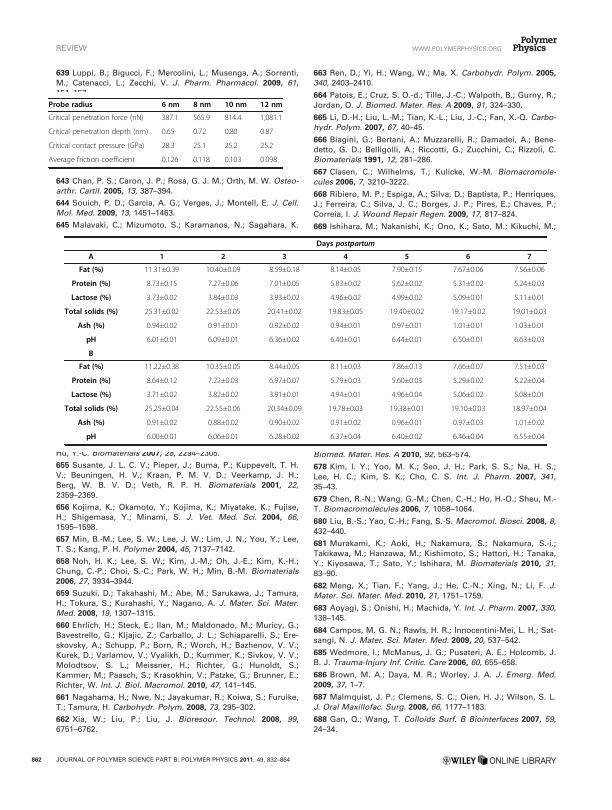borderless: (64, 235, 546, 444), (47, 97, 282, 167)
cell: (48, 128, 149, 137), (48, 142, 145, 151), (48, 114, 144, 123), (48, 156, 136, 165), (64, 307, 119, 317), (64, 404, 119, 414), (316, 239, 376, 248), (70, 293, 112, 303), (70, 390, 112, 400), (71, 279, 111, 289), (71, 376, 111, 386), (48, 101, 94, 109), (77, 321, 105, 331), (77, 418, 105, 428), (78, 265, 104, 275), (78, 362, 104, 372), (144, 266, 180, 273), (205, 266, 241, 273), (144, 308, 180, 315), (205, 308, 241, 315), (266, 308, 302, 315), (328, 308, 364, 315), (389, 308, 425, 315), (450, 308, 486, 315), (511, 308, 547, 315), (144, 363, 180, 370), (205, 363, 241, 370), (144, 405, 180, 412), (205, 405, 241, 412), (266, 405, 302, 412), (328, 405, 364, 412), (389, 405, 425, 412), (450, 405, 486, 412), (511, 405, 547, 412), (268, 266, 301, 273), (329, 266, 362, 273), (513, 266, 546, 273), (268, 280, 301, 287), (329, 280, 362, 287), (513, 280, 546, 287), (268, 294, 301, 301), (329, 294, 362, 301), (513, 294, 546, 301), (268, 322, 301, 329), (329, 322, 362, 329), (513, 322, 546, 329), (268, 336, 301, 343), (329, 336, 362, 343), (513, 336, 546, 343), (268, 363, 301, 370), (329, 363, 362, 370), (513, 363, 546, 370), (268, 377, 301, 384), (329, 377, 362, 384), (513, 377, 546, 384), (268, 391, 301, 398), (329, 391, 362, 398), (513, 391, 546, 398), (268, 419, 301, 426), (329, 419, 362, 426), (513, 419, 546, 426), (268, 433, 301, 440), (329, 433, 362, 440), (513, 433, 546, 440), (391, 266, 423, 273), (452, 266, 484, 273), (146, 280, 178, 287), (207, 280, 239, 287), (391, 280, 423, 287), (452, 280, 484, 287), (146, 294, 178, 301), (207, 294, 239, 301), (391, 294, 423, 301), (452, 294, 484, 301), (146, 322, 178, 329), (207, 322, 239, 329), (391, 322, 423, 329), (452, 322, 484, 329), (146, 336, 178, 343), (207, 336, 239, 343), (391, 336, 423, 343), (452, 336, 484, 343), (391, 363, 423, 370), (452, 363, 484, 370), (146, 377, 178, 384), (207, 377, 239, 384), (391, 377, 423, 384), (452, 377, 484, 384), (146, 391, 178, 398), (207, 391, 239, 398), (391, 391, 423, 398), (452, 391, 484, 398), (146, 419, 178, 426), (207, 419, 239, 426), (391, 419, 423, 426), (452, 419, 484, 426), (146, 433, 178, 440), (207, 433, 239, 440), (391, 433, 423, 440), (452, 433, 484, 440), (259, 114, 283, 123), (224, 101, 248, 109), (259, 101, 283, 109), (192, 114, 211, 123), (192, 156, 211, 165), (259, 156, 278, 165), (161, 114, 179, 123), (224, 114, 242, 123), (161, 156, 179, 165), (224, 156, 242, 165), (192, 101, 212, 109), (161, 101, 180, 109), (192, 128, 207, 137), (259, 128, 274, 137), (192, 142, 207, 151), (259, 142, 274, 151), (161, 128, 175, 137), (224, 128, 238, 137), (161, 142, 175, 151), (224, 142, 238, 151), (85, 335, 97, 345), (85, 432, 97, 442), (88, 252, 95, 262), (342, 252, 349, 262), (159, 252, 165, 262), (220, 252, 226, 262), (281, 252, 287, 262), (404, 252, 410, 262), (465, 252, 471, 262), (526, 252, 532, 262), (88, 349, 94, 359)
